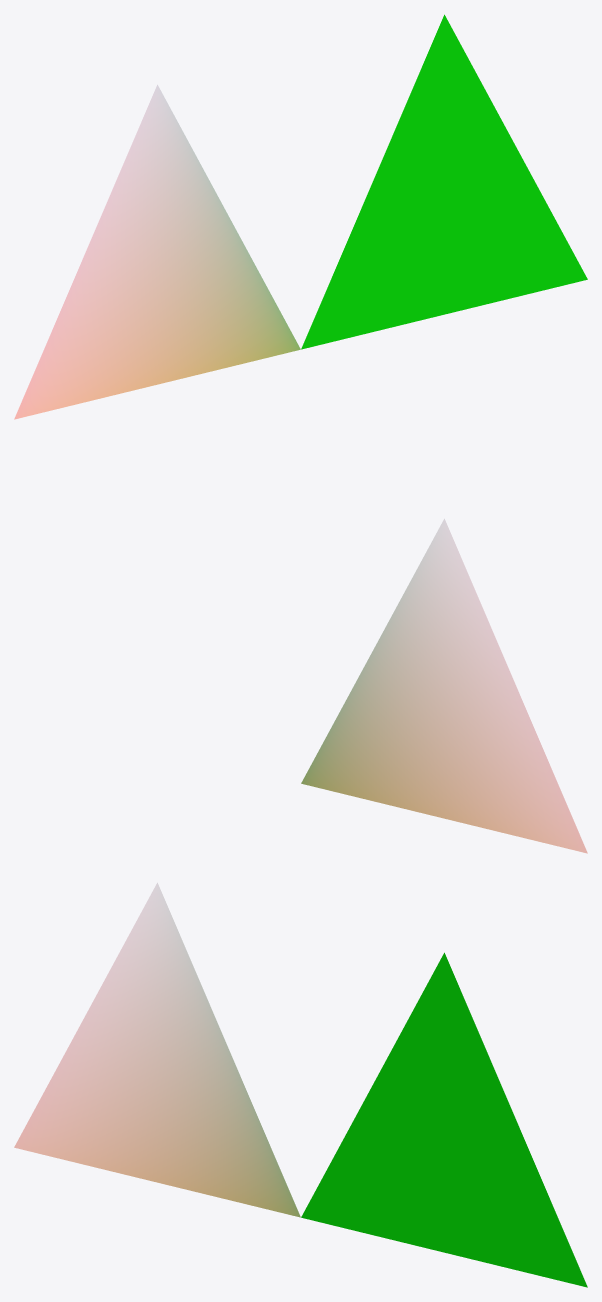
File: 🧊️two-primitive.glb
The picture shows the model from 3 angles, top to bottom: view 1: azimuth 30°, elevation 25°; view 2: azimuth 150°, elevation 25°; view 3: azimuth 330°, elevation 25°; orthographic projection.
Parts seen in each view (by area): view 1: two-primitive-materials; view 2: two-primitive-materials; view 3: two-primitive-materials.
Part boxes in pixels (x1=…): two-primitive-materials: x1=14, y1=14, x2=587, y2=419; two-primitive-materials: x1=301, y1=519, x2=587, y2=853; two-primitive-materials: x1=14, y1=883, x2=587, y2=1287.
Bounding box in the file's own units: 2 × 1 × 0.
Materials: 2 (1 with a texture image).
